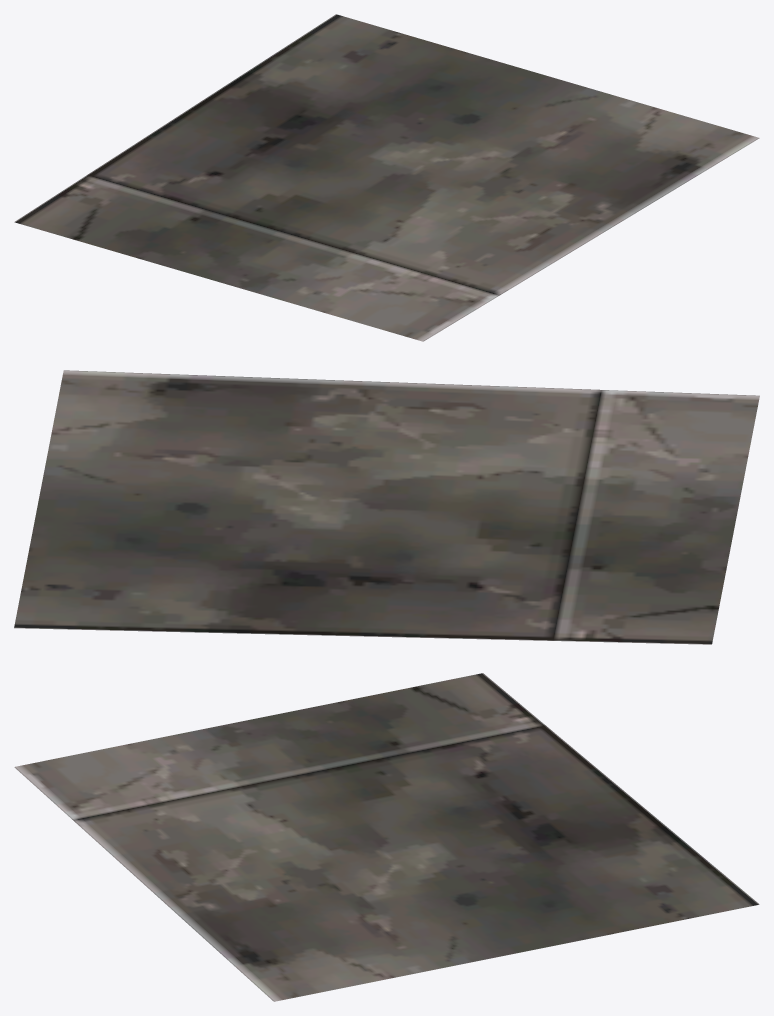
File: CH09_SMAUG_PLAYSURFACE_LAIR142.fbx
3 renders of one model, top to bottom at view 1: azimuth 30°, elevation 25°; view 2: azimuth 150°, elevation 25°; view 3: azimuth 270°, elevation 25°, orthographic. The views are drawn at different scales.
Parts seen in each view (by area): view 1: CH09_SMAUG_PLAYSURFACE_LAIR142; view 2: CH09_SMAUG_PLAYSURFACE_LAIR142; view 3: CH09_SMAUG_PLAYSURFACE_LAIR142.
Boxes of the visible parts, x1,y1,x2,y2 form: CH09_SMAUG_PLAYSURFACE_LAIR142: (14,14,759,341); CH09_SMAUG_PLAYSURFACE_LAIR142: (14,370,759,644); CH09_SMAUG_PLAYSURFACE_LAIR142: (14,673,759,1001).
Size of the model in its own units: 15487 by 0.00457 by 14848.
Materials: 1 (1 with a texture image).
